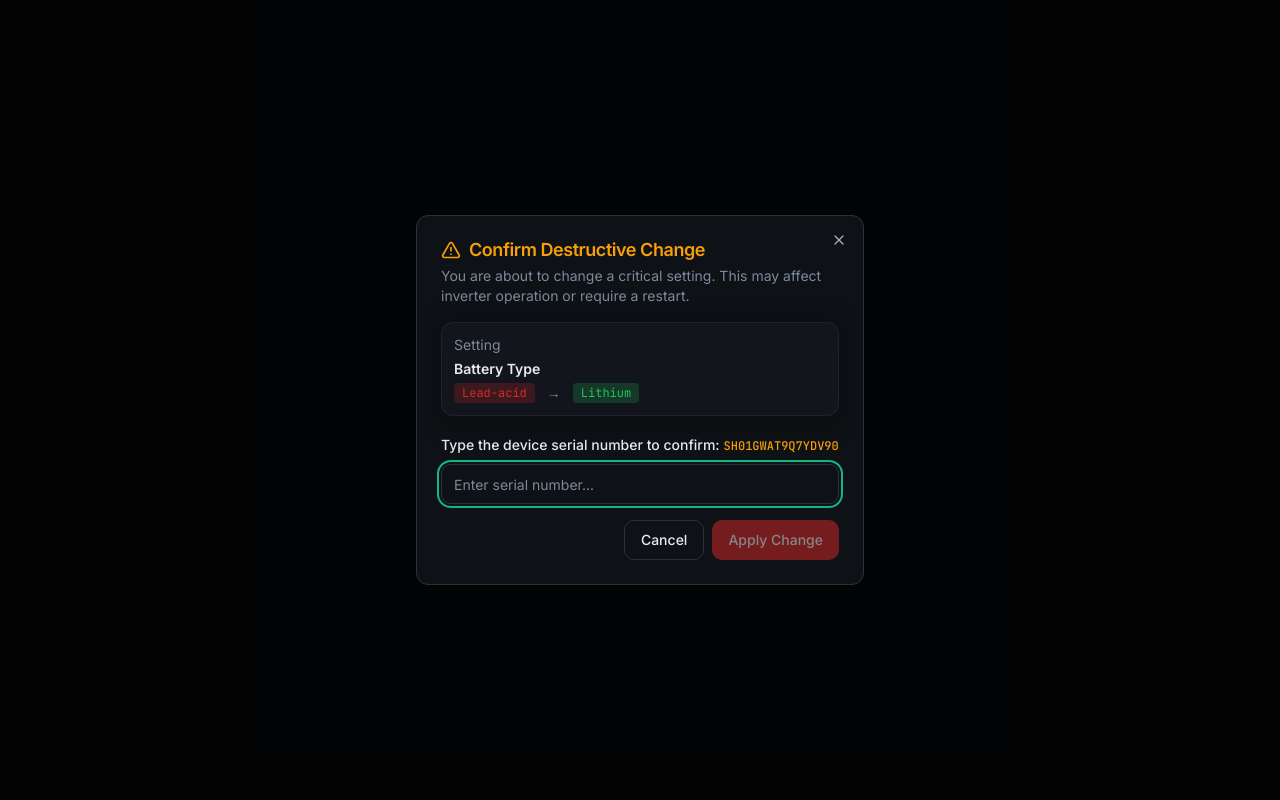
Test: ConfirmWriteDialog › disables Apply button until correct serial is typed
Expected: the button "Apply Change" is disabled, [712, 520, 839, 560]
Type "WRONG123" into the field with placeholder "Enter serial number..." at (640,484), box [441, 464, 839, 504]
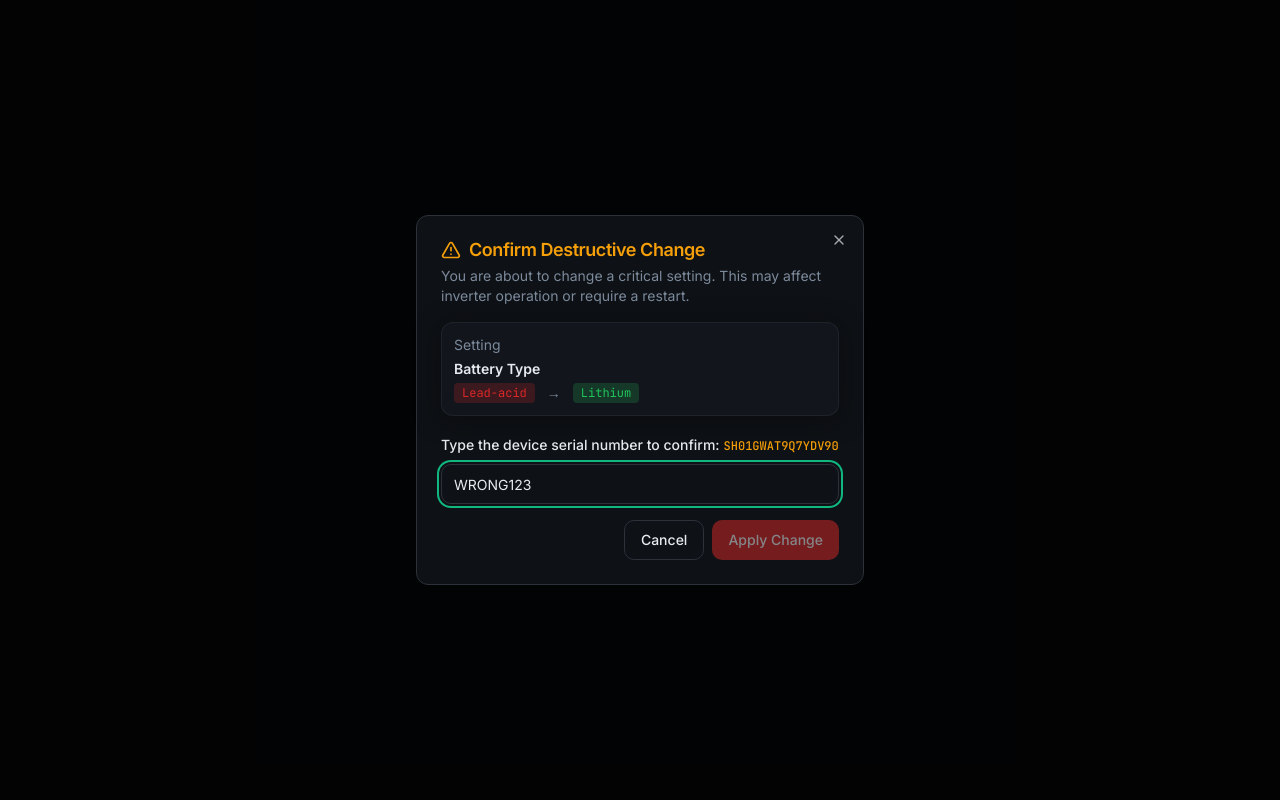
Expected: the button "Apply Change" is disabled, [712, 520, 839, 560]
Replace the text in the field with placeholder "Enter serial number..." with "SH01GWAT9Q7YDV90" at (640,484), box [441, 464, 839, 504]
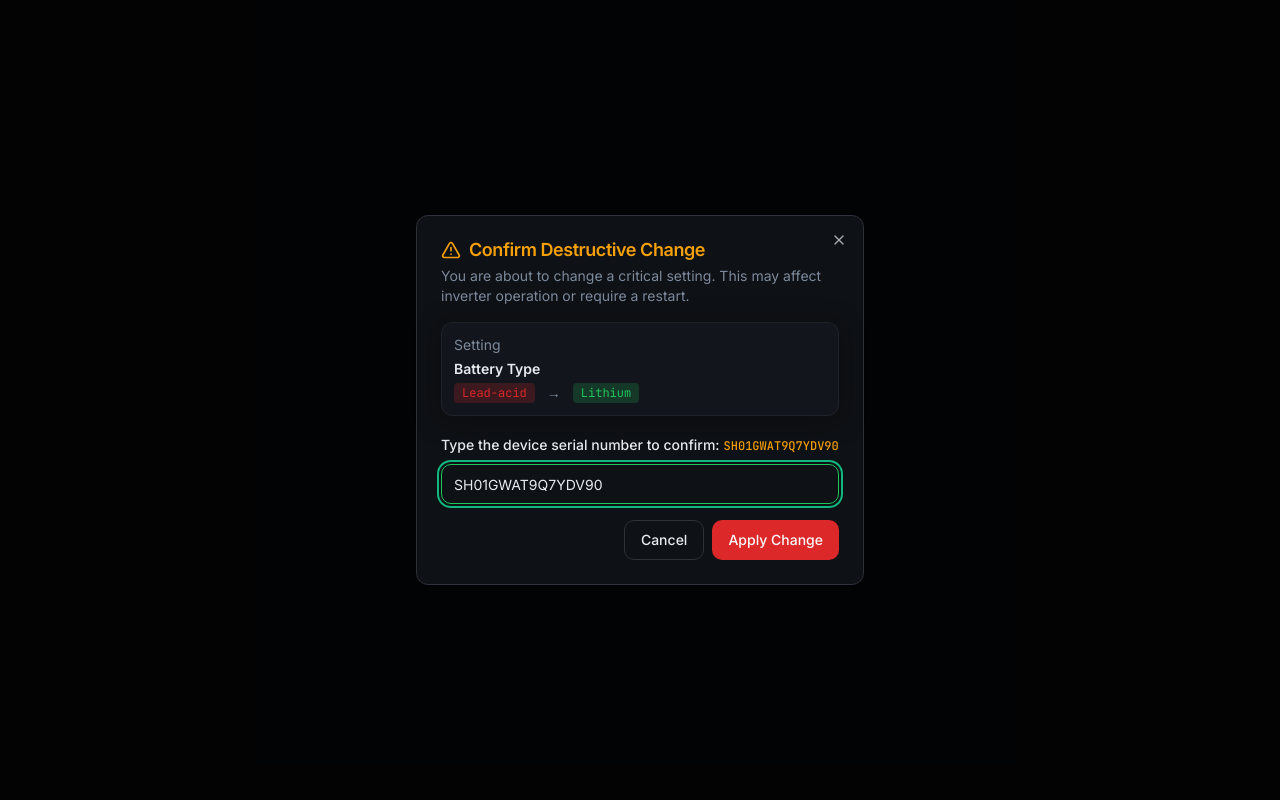
Expected: the button "Apply Change" is enabled, [712, 520, 839, 560]
